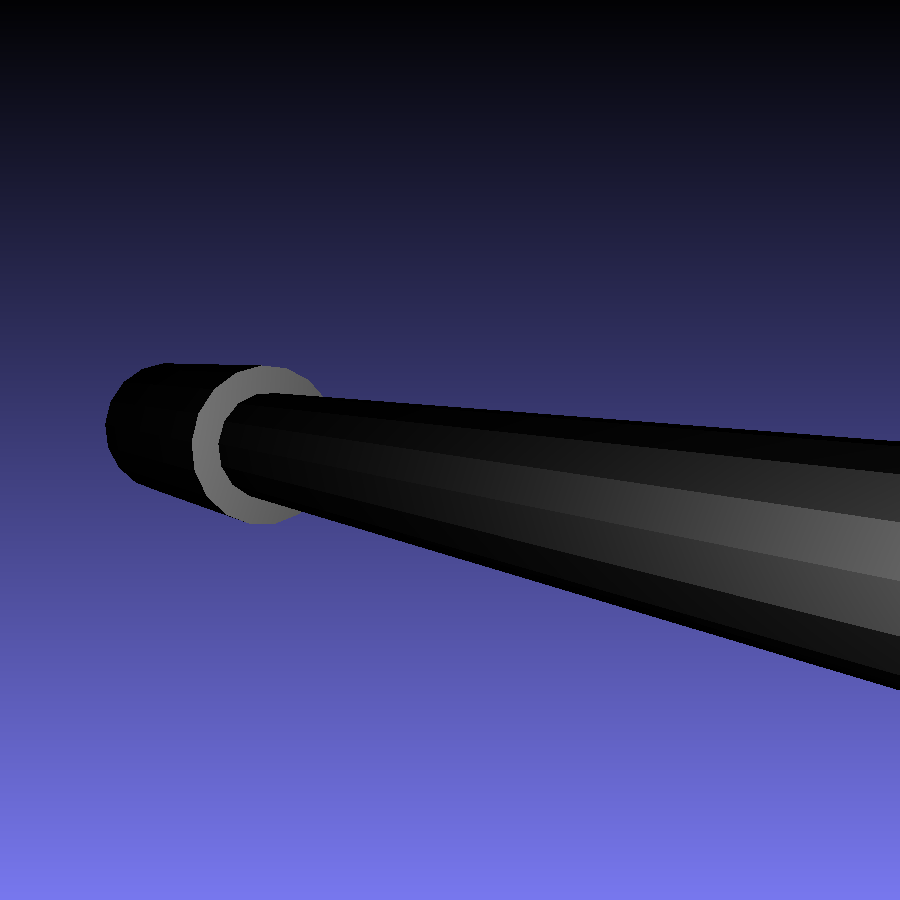cargo_g: (106, 363, 900, 692)
